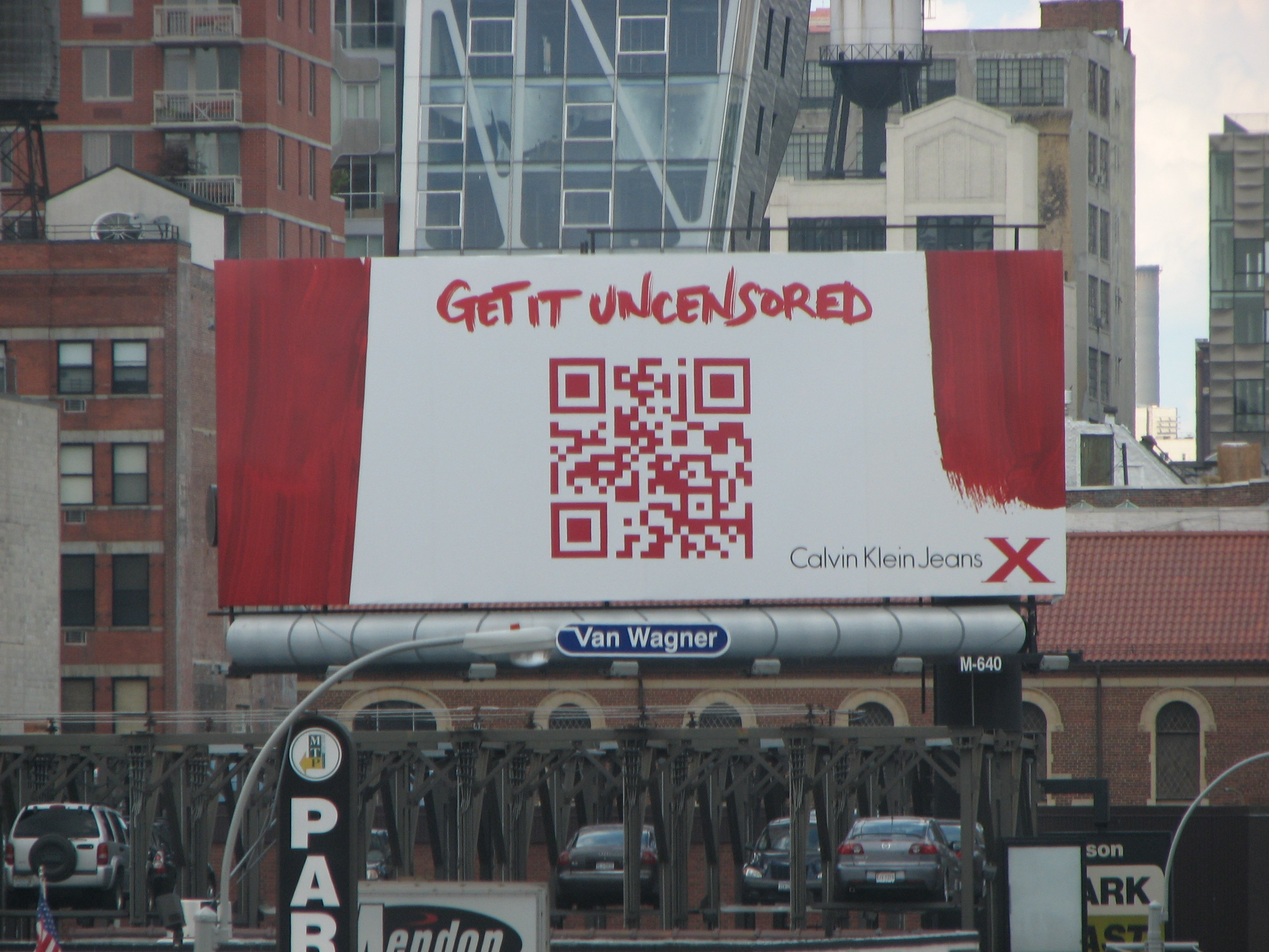QR-CODE: (550, 358, 753, 558)
